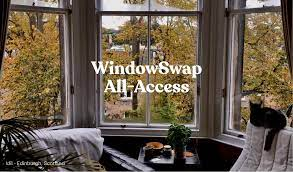Window: (97, 3, 201, 132), (1, 1, 72, 121), (228, 1, 292, 131)
